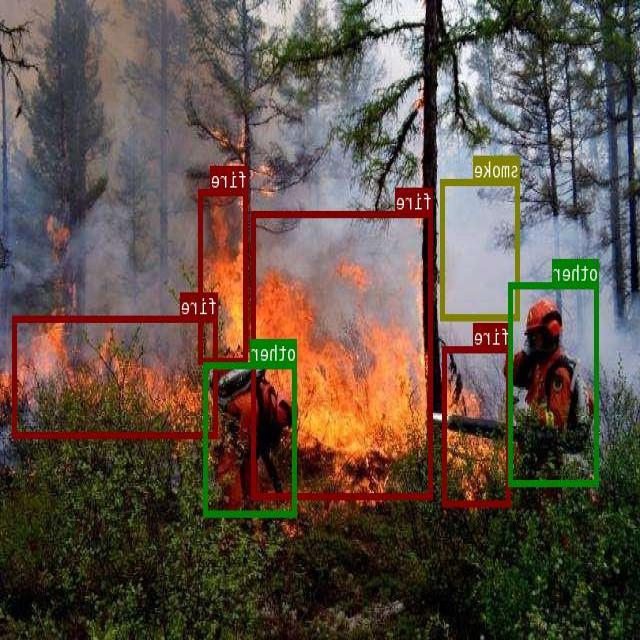fire: (252, 210, 433, 498), (14, 315, 219, 438), (443, 345, 511, 505), (199, 188, 249, 362)
other: (510, 281, 600, 486), (205, 362, 298, 516)
smoke: (441, 178, 521, 320)
